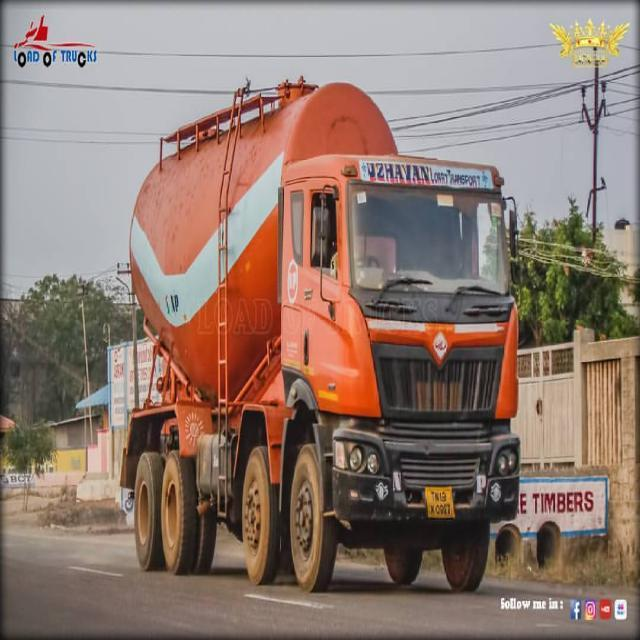Truck: (117, 71, 524, 602)
